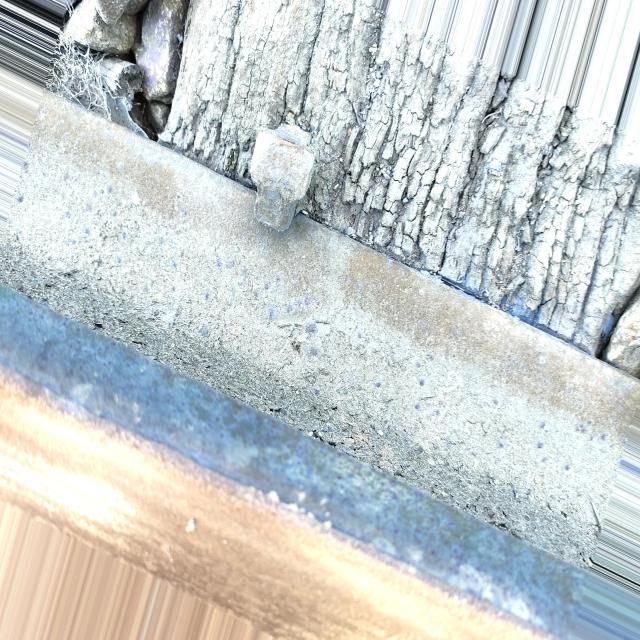Good Fasteners: (250, 125, 314, 231)
